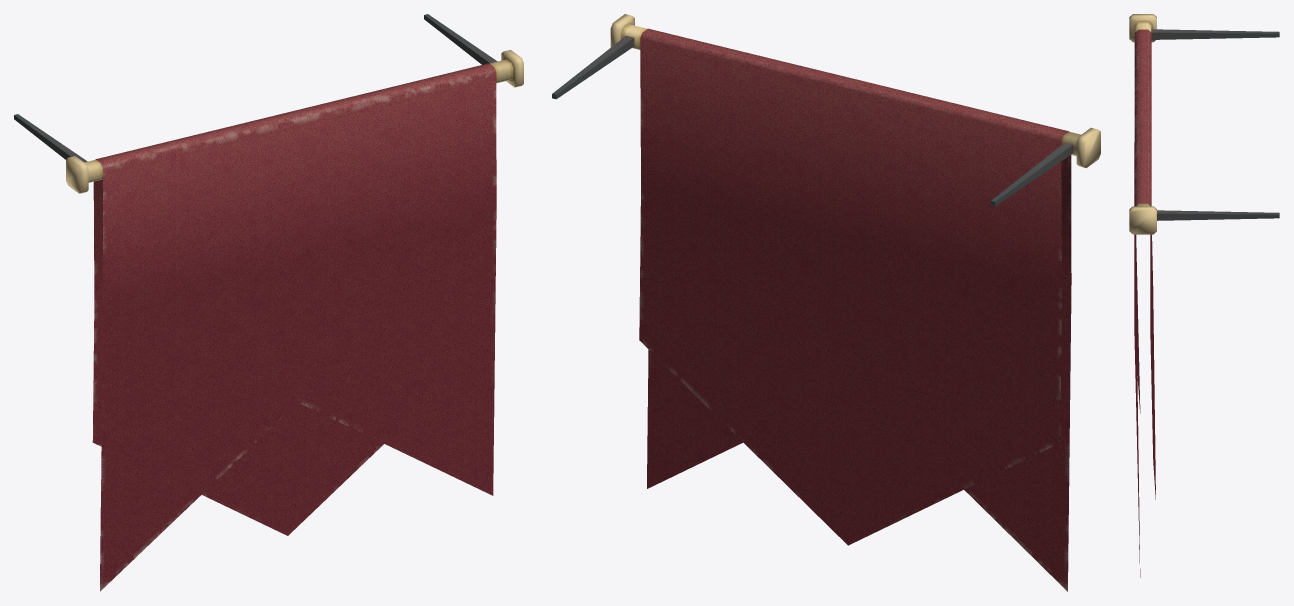
The model's file is Banner.fbx.
3 views of the same model, side by side, from view 1: azimuth 30°, elevation 25°; view 2: azimuth 150°, elevation 25°; view 3: azimuth 270°, elevation 25° (orthographic). The views are drawn at different scales.
Visible parts, largest first — view 1: Banner.001; view 2: Banner.001; view 3: Banner.001.
Part boxes in pixels (x1,y1,x2,y2): Banner.001: (14,14,523,591); Banner.001: (552,14,1100,591); Banner.001: (1129,14,1279,577).
Size of the model in its own units: 34.64 by 107 by 100.
Materials: 3 (3 with a texture image).
